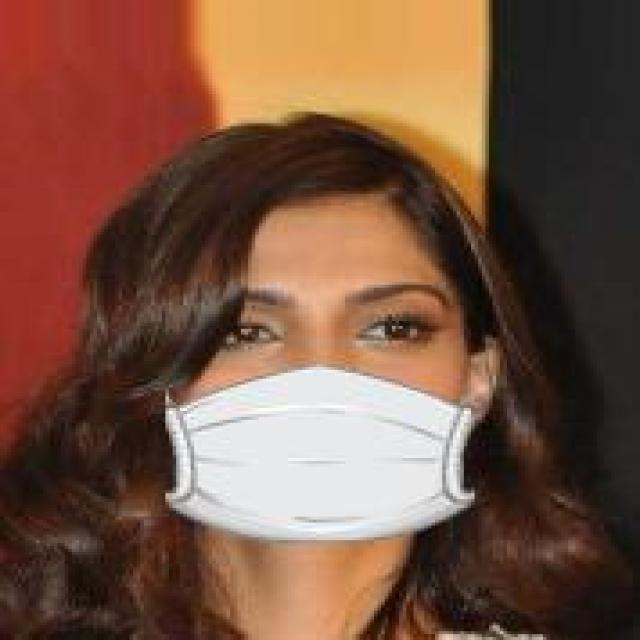mask: (100, 58, 564, 570)
